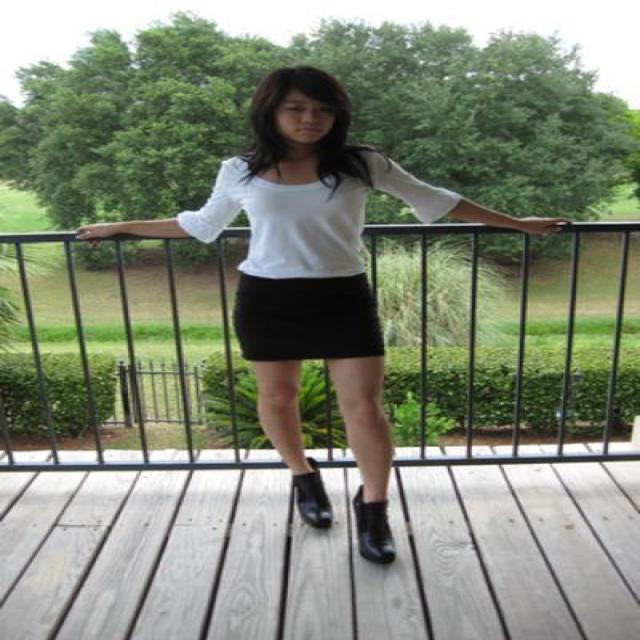shirt: (162, 152, 462, 285)
shoe: (288, 474, 394, 575)
skirt: (222, 269, 384, 360)
